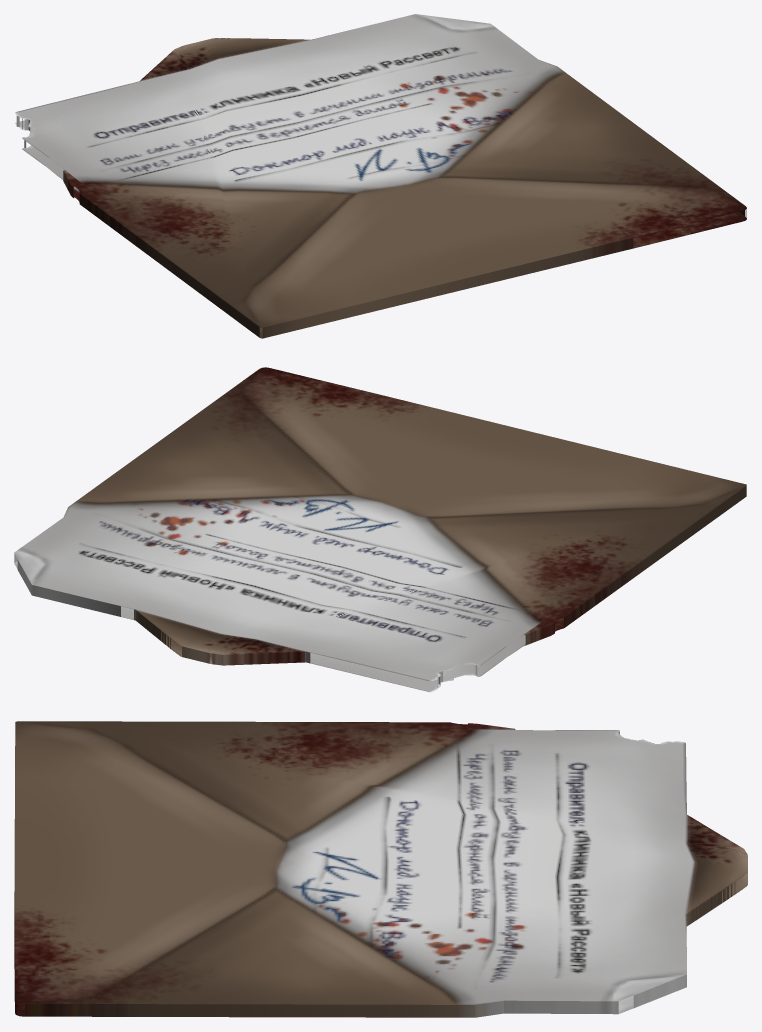
The model's file is the_envelope_with_the_letter.fbx.
3 renders of one model, top to bottom at view 1: azimuth 30°, elevation 25°; view 2: azimuth 150°, elevation 25°; view 3: azimuth 270°, elevation 25°, orthographic. The views are drawn at different scales.
Visible parts, largest first — view 1: the_envelope_with_the_letter; view 2: the_envelope_with_the_letter; view 3: the_envelope_with_the_letter.
Boxes of the visible parts, x1=… form: the_envelope_with_the_letter: x1=15, y1=14, x2=746, y2=338; the_envelope_with_the_letter: x1=14, y1=367, x2=746, y2=692; the_envelope_with_the_letter: x1=14, y1=721, x2=747, y2=1017.
Size of the model in its own units: 42.1 by 0.8875 by 46.03.
